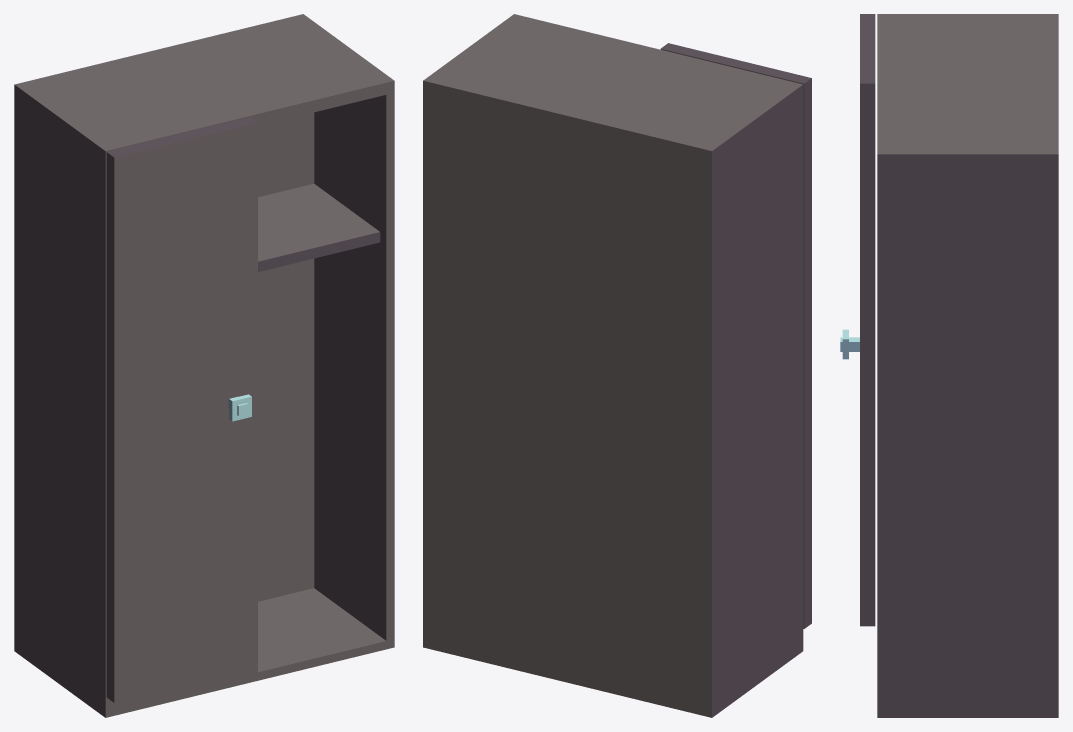
The model's file is Cupboard.fbx.
3 renders of one model, left to right at view 1: azimuth 30°, elevation 25°; view 2: azimuth 150°, elevation 25°; view 3: azimuth 270°, elevation 25°, orthographic.
Visible parts, largest first — view 1: Cupboard; view 2: Cupboard; view 3: Cupboard.
Part boxes in pixels (bbox=[...]): Cupboard: bbox=[14, 14, 394, 717]; Cupboard: bbox=[423, 14, 811, 717]; Cupboard: bbox=[840, 14, 1058, 717].
Size of the model in its own units: 200 by 375 by 132.
